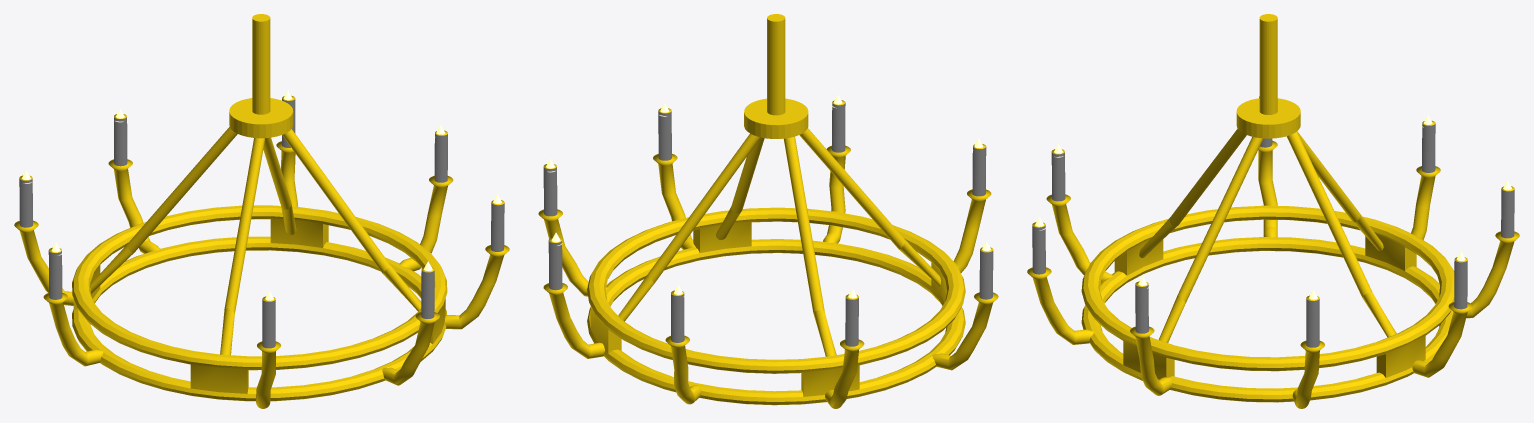
The model's file is Chandelier.glb.
3 renders of one model, left to right at view 1: azimuth 30°, elevation 25°; view 2: azimuth 150°, elevation 25°; view 3: azimuth 270°, elevation 25°, orthographic.
Parts seen in each view (by area): view 1: Chandelier; view 2: Chandelier; view 3: Chandelier.
Part boxes in pixels (x1,y1,x2,y2): Chandelier: (14, 14, 509, 408); Chandelier: (538, 14, 998, 408); Chandelier: (1027, 14, 1519, 408).
Bounding box in the file's own units: 8.11 × 5.53 × 8.02.
